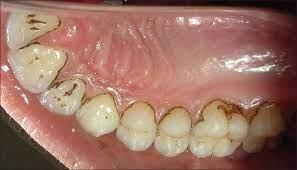Calculus: (191, 96, 247, 148), (43, 76, 90, 117)
